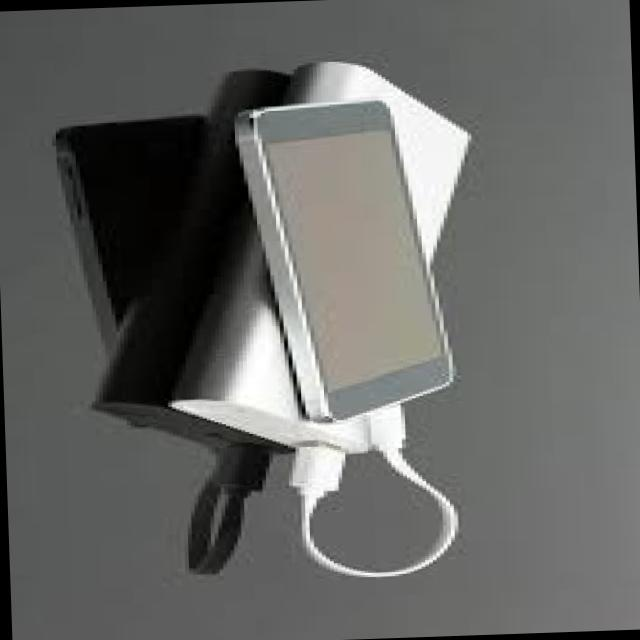portable-charger: (111, 49, 493, 470)
